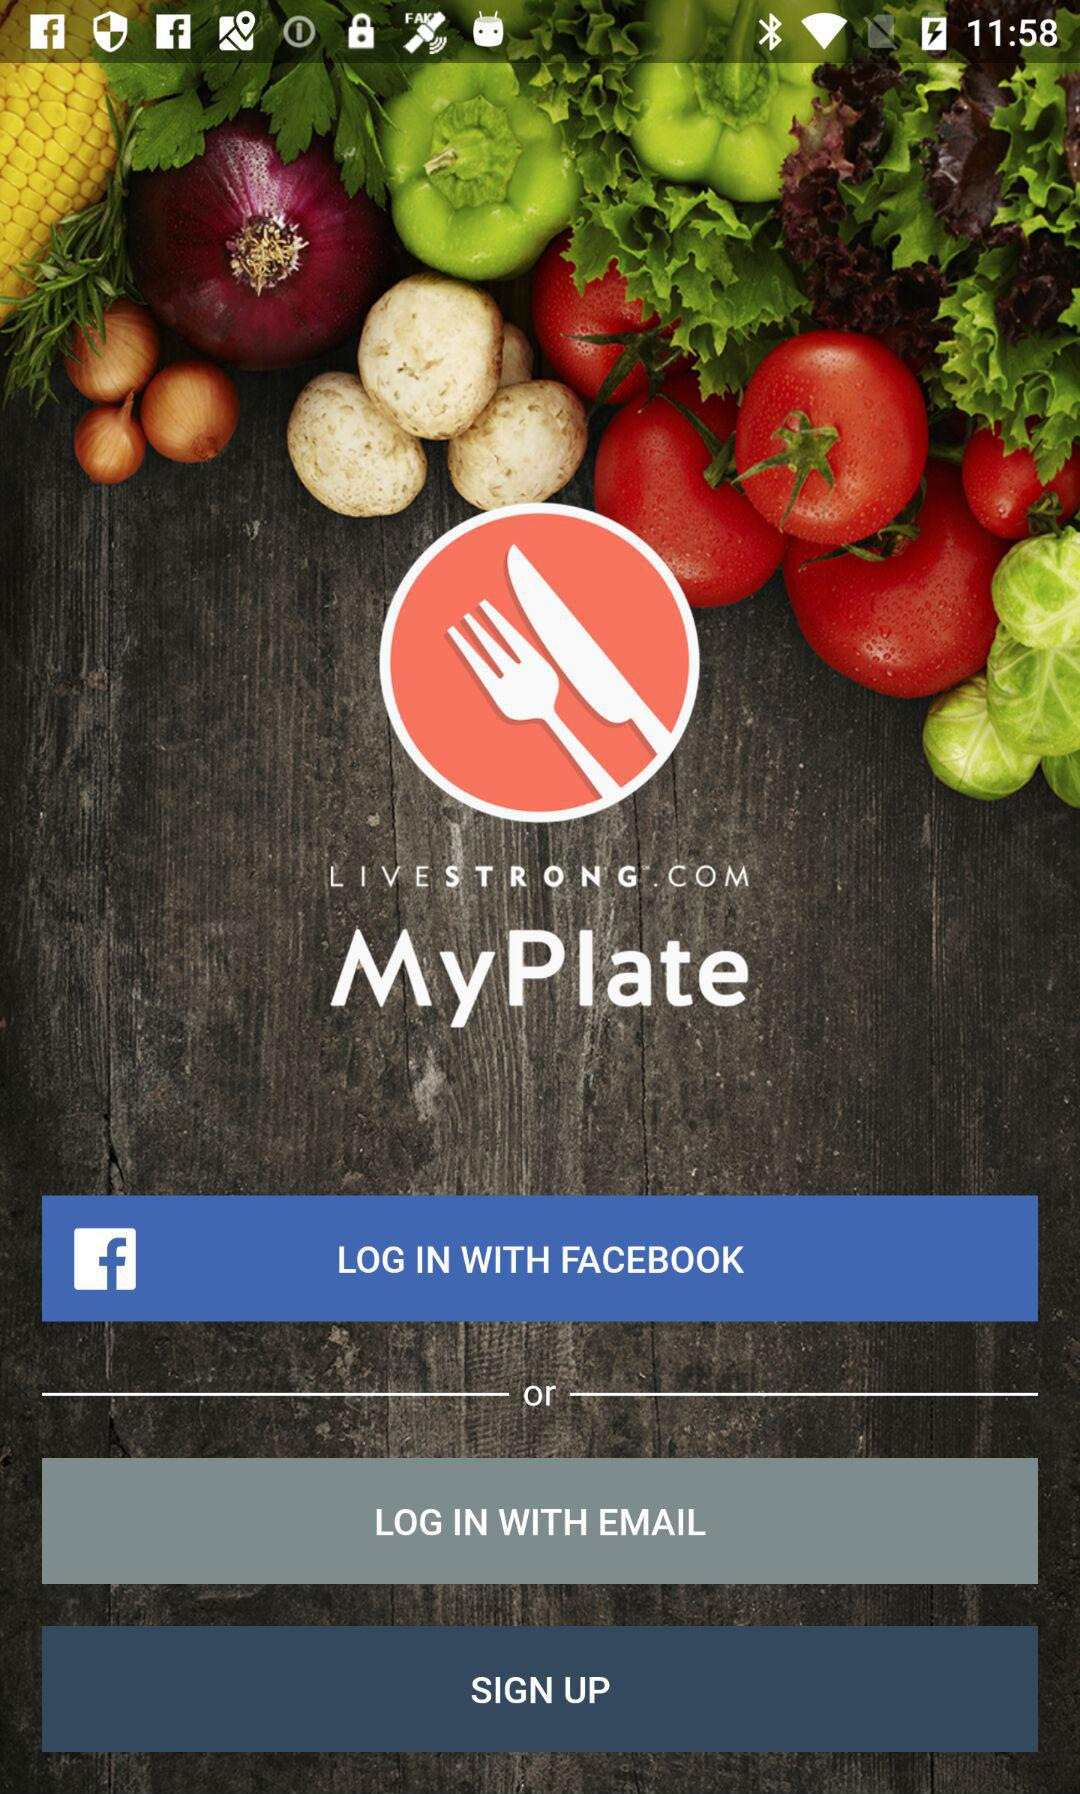BackgroundImage: (1, 64, 1080, 1794)
Image: (378, 504, 701, 824)
Text: (331, 926, 749, 1029), (331, 864, 751, 889), (521, 1384, 562, 1413)
TextButton: (42, 1625, 1038, 1753), (42, 1458, 1039, 1585), (42, 1196, 1038, 1322)
UpperTaskBar: (1, 1, 1080, 64)
